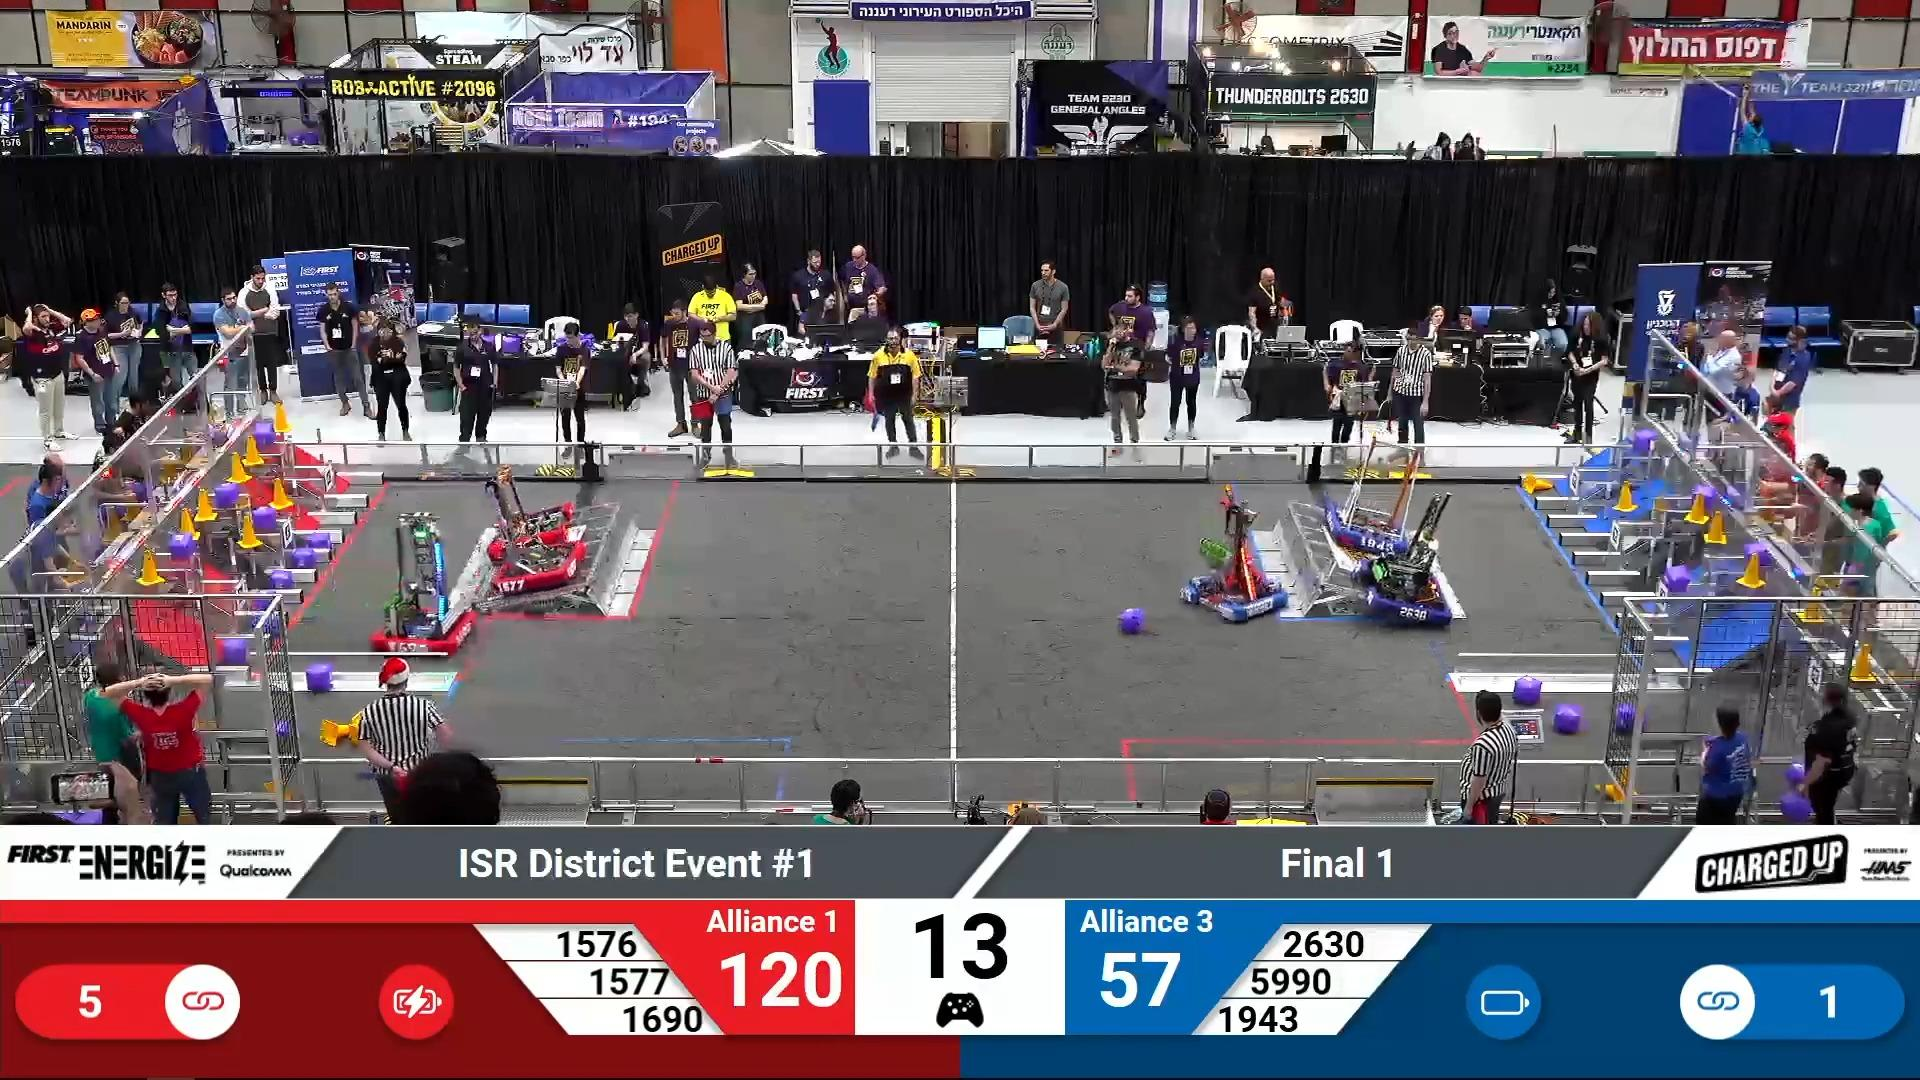robot: (365, 512, 481, 655), (1352, 491, 1456, 629), (1180, 496, 1288, 624), (491, 480, 587, 596), (1327, 435, 1422, 553), (489, 458, 575, 562)
